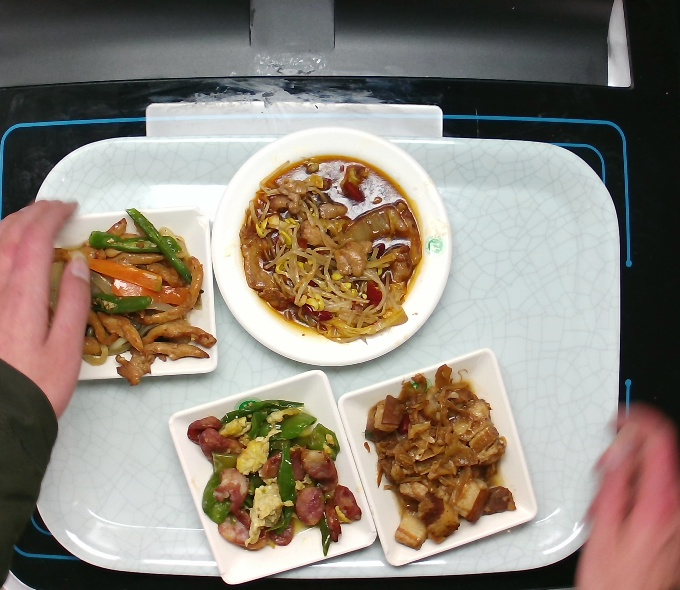wcq-HongShaoRou: (360, 362, 523, 553)
wcq-QingJiaoChaoDaChang: (186, 394, 364, 562)
wcq-QingJiaoRouSi: (42, 207, 222, 389)
wcq-ShuiZhuRouPian: (235, 147, 427, 347)
